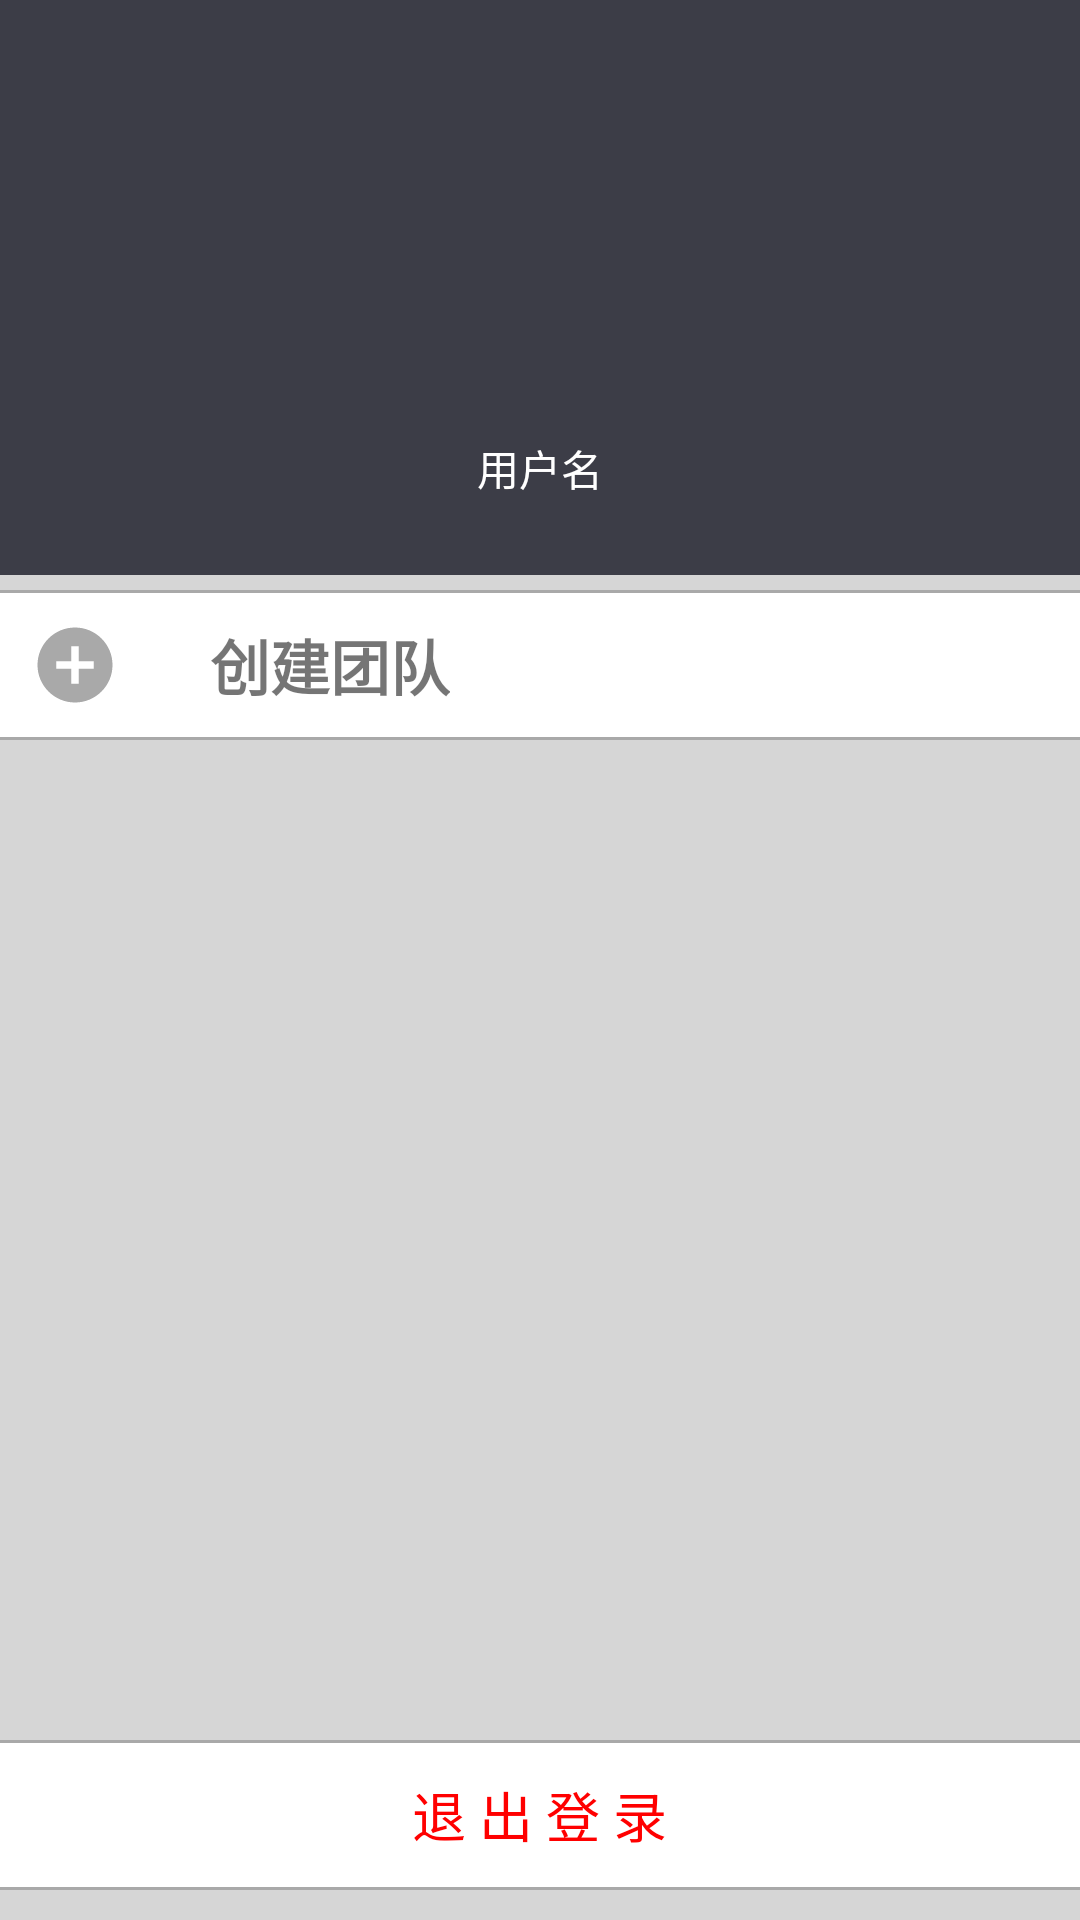

Point at icon controls on the screen. Image size 1080×1920, points as (x,y).
add circle: (75,665)
